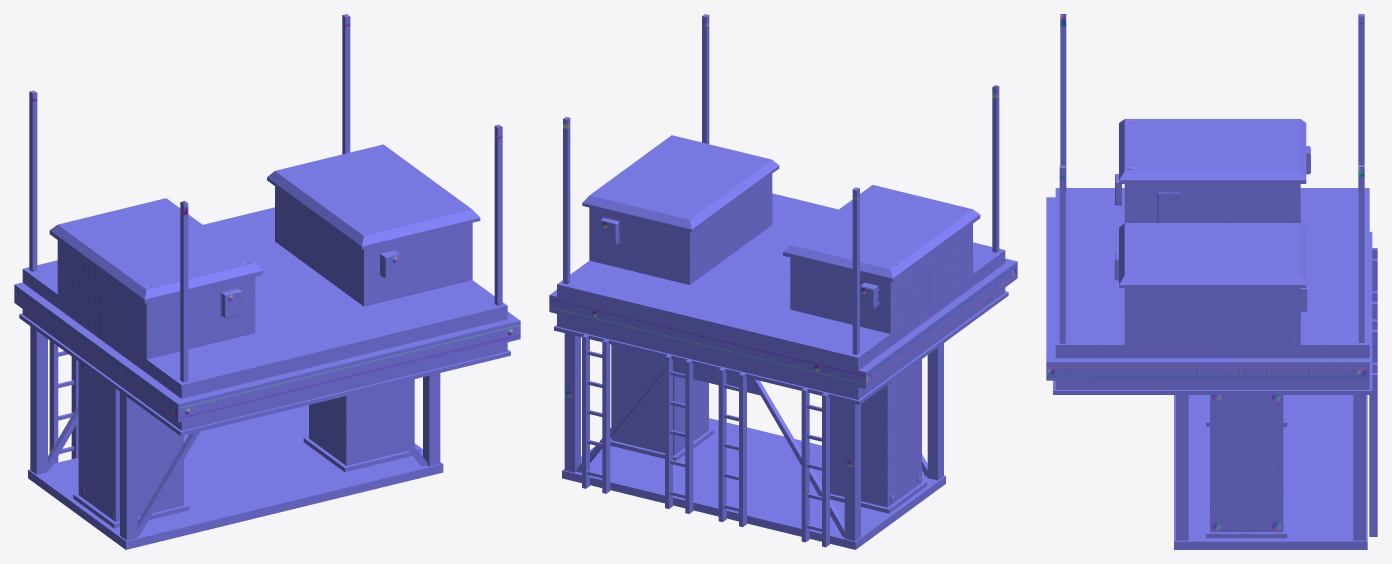
Rendered from TopTowerLaunch.FBX.
3 renders of one model, left to right at view 1: azimuth 30°, elevation 25°; view 2: azimuth 150°, elevation 25°; view 3: azimuth 270°, elevation 25°, orthographic. The views are drawn at different scales.
Visible parts, largest first — view 1: TopTowerLaunch; view 2: TopTowerLaunch; view 3: TopTowerLaunch.
Boxes of the visible parts, x1,y1,x2,y2 form: TopTowerLaunch: [14, 14, 520, 549]; TopTowerLaunch: [549, 14, 1017, 549]; TopTowerLaunch: [1046, 14, 1377, 549].
Bounding box in the file's own units: 492 × 532 × 418.
